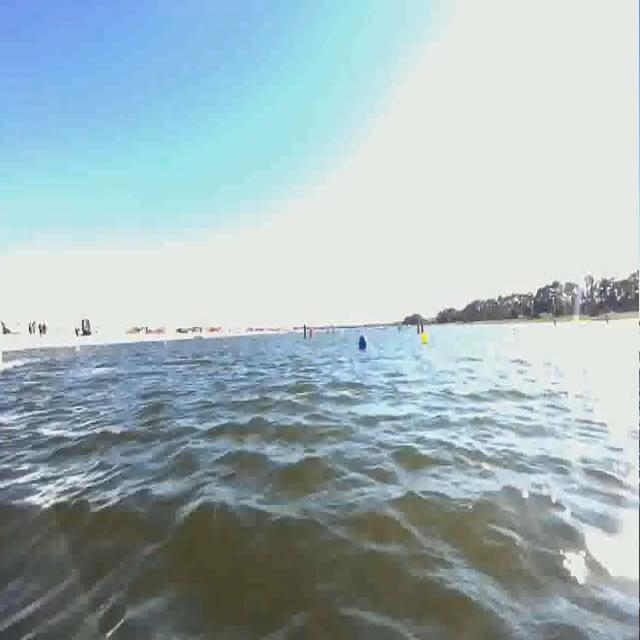blue-buoy: (357, 334, 368, 354)
yellow-buoy: (421, 331, 429, 345)
